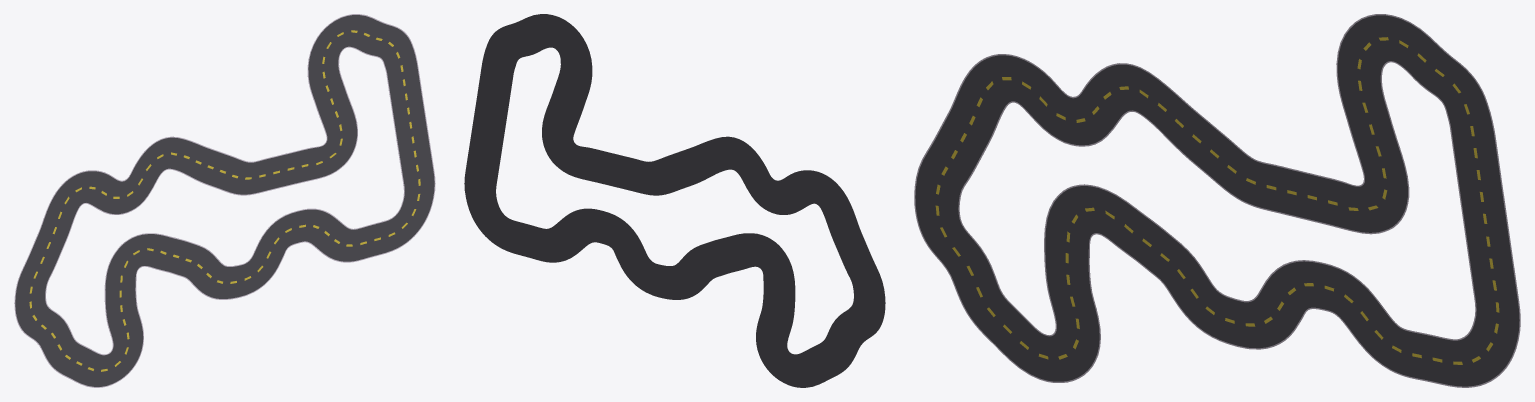
Rendered from track.obj.
3 renders of one model, left to right at view 1: azimuth 30°, elevation 25°; view 2: azimuth 150°, elevation 25°; view 3: azimuth 330°, elevation 25°, orthographic. The views are drawn at different scales.
Size of the model in its own units: 19.27 by 13.69 by 0.002.
